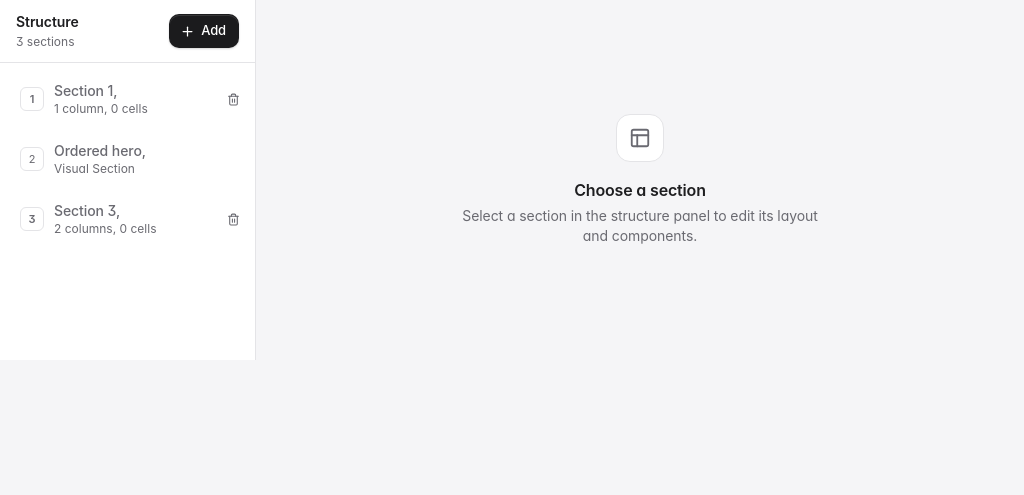
Test: shows mixed sections in their runtime order rather than raw array order
Click the button "3 Section 3, 2 columns, 0 cells" at (114,219), box [8,191,219,247]
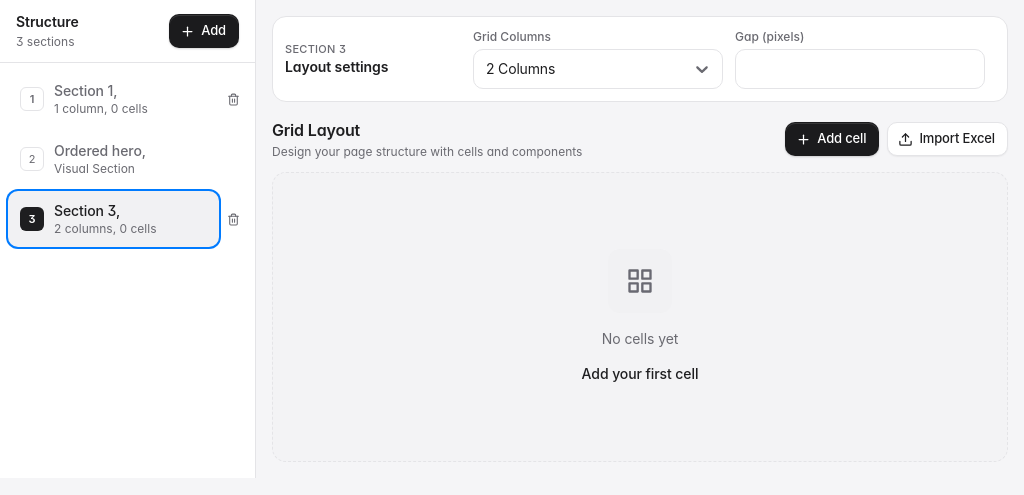
Result: the element with test id "section-layout-toolbar" shows "Section 3" at [272,16,1008,102]
